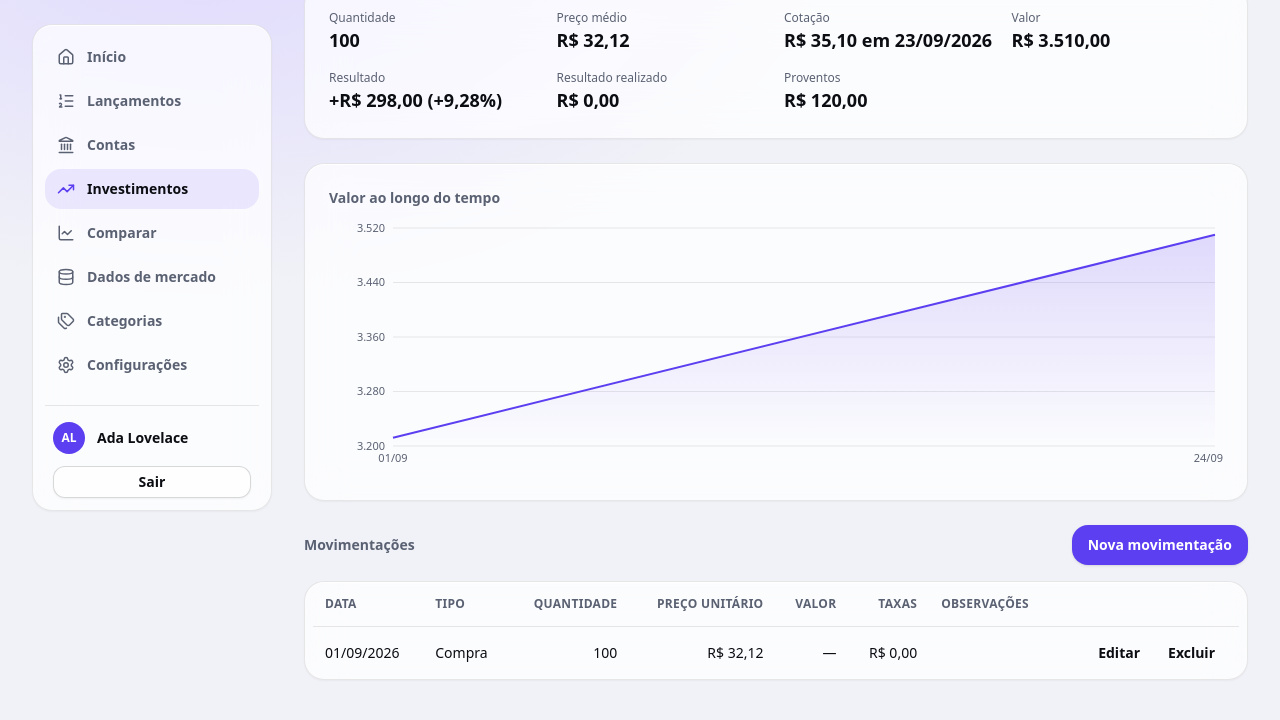
Scenario: AssetPage › shows the refusal of a delete verbatim
(page scrolled)
Click the button "Excluir" at coordinates (1192, 652), box [1156,636,1227,668]
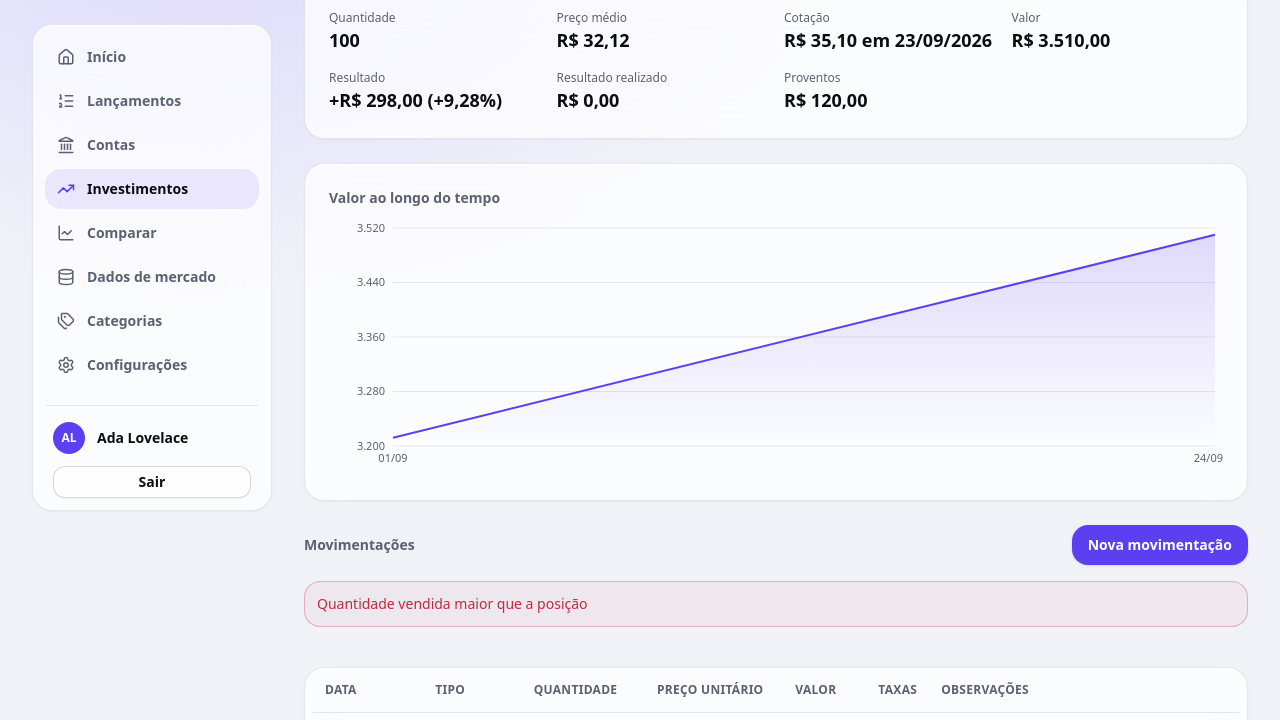
Expected: the message reads "Quantidade vendida maior que a posição", [317,594,588,613]
